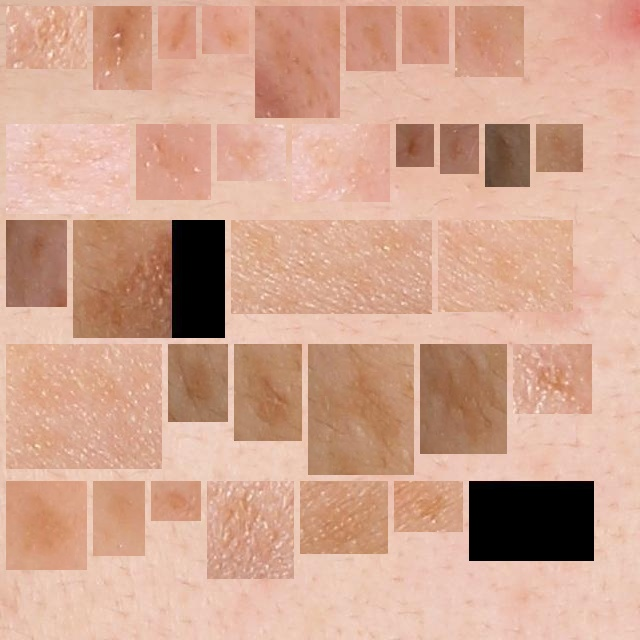melasma: (14, 352, 154, 461), (239, 228, 424, 306), (81, 228, 217, 330), (316, 352, 406, 467), (446, 228, 565, 304), (14, 132, 122, 206), (477, 489, 586, 553), (428, 352, 499, 446), (263, 14, 332, 110), (215, 489, 286, 571), (300, 132, 382, 194), (14, 489, 79, 562), (242, 352, 294, 433), (308, 489, 380, 546), (144, 132, 203, 192), (521, 352, 584, 406), (14, 228, 59, 299), (14, 14, 79, 61), (101, 14, 144, 82), (463, 14, 516, 69), (176, 352, 220, 414), (225, 132, 278, 173), (101, 489, 137, 548), (402, 489, 455, 524), (354, 14, 388, 63), (493, 132, 522, 179), (410, 14, 441, 56), (210, 14, 241, 46), (544, 132, 575, 164), (159, 489, 193, 513), (166, 14, 188, 51), (448, 132, 471, 166), (404, 132, 426, 159)
